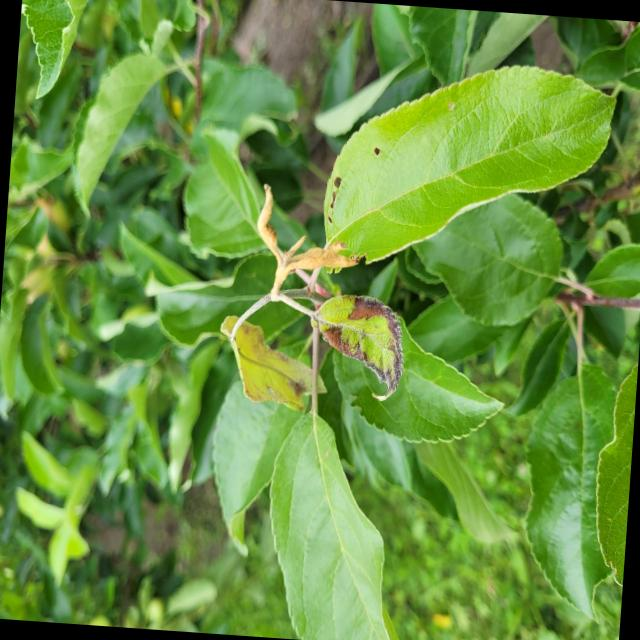-FireBlight-: (246, 184, 412, 389)
